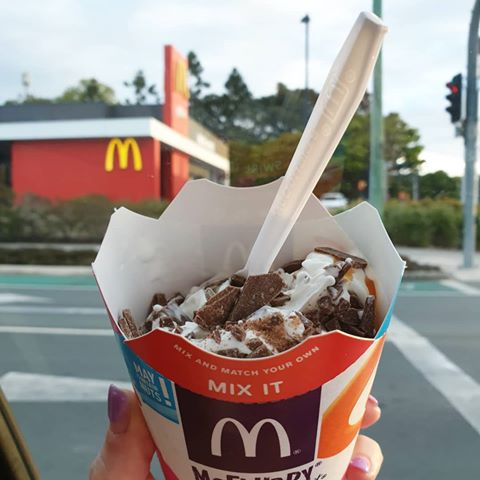mcdonalds: (204, 407, 296, 466), (102, 133, 148, 178)
